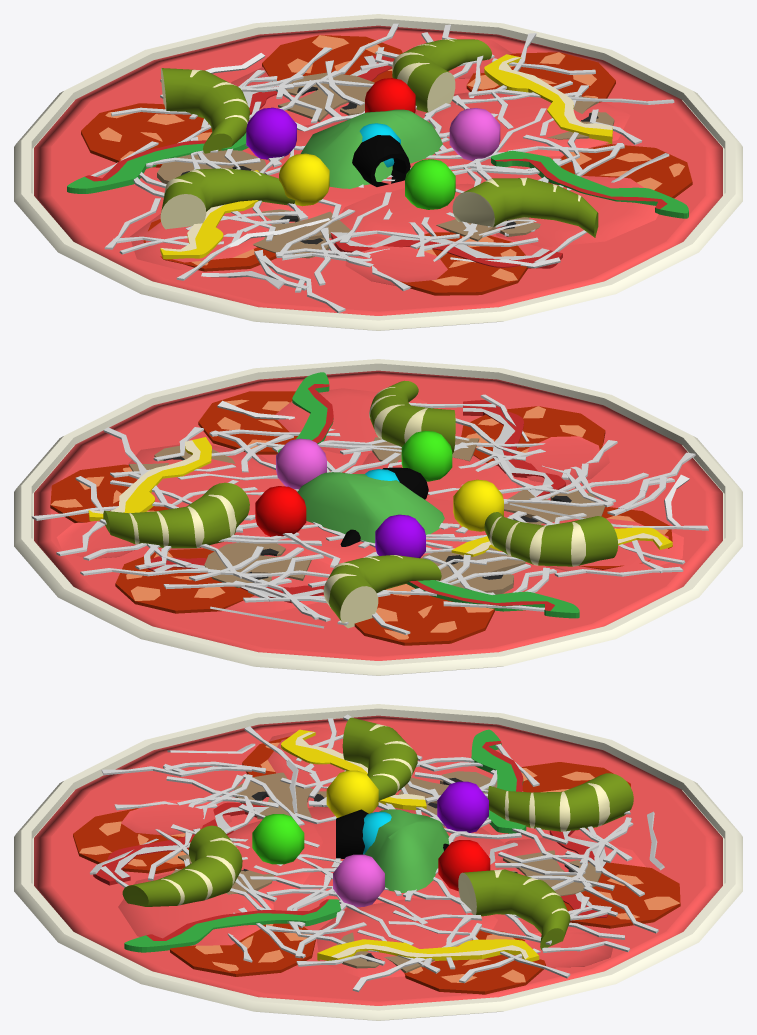
The model's file is Pizza.fbx.
3 views of the same model, one above another, from view 1: azimuth 30°, elevation 25°; view 2: azimuth 150°, elevation 25°; view 3: azimuth 270°, elevation 25° (orthographic).
Parts seen in each view (by area): view 1: Sauce_T3_Pizza, Pate_Pizza, Fromage_Pizza, Sauce_T2-Pizza, Chorizo_Pizza, Crevette_Pizza, Poivron_Pizza, caca_dans_pizza_14, champi_sur_pizza_2, Moisissure_Pizza, Vers_Pizza; view 2: Sauce_T3_Pizza, Pate_Pizza, Fromage_Pizza, Chorizo_Pizza, Sauce_T2-Pizza, Crevette_Pizza, Poivron_Pizza, caca_dans_pizza_14, champi_sur_pizza_2, Moisissure_Pizza, Vers_Pizza; view 3: Sauce_T3_Pizza, Pate_Pizza, Fromage_Pizza, Sauce_T2-Pizza, Crevette_Pizza, Chorizo_Pizza, Poivron_Pizza, caca_dans_pizza_14, champi_sur_pizza_2, Moisissure_Pizza, Vers_Pizza.
Part boxes in pixels (left/top/right/bottom): Sauce_T3_Pizza: left=34, top=25, right=722, bottom=315; Pate_Pizza: left=14, top=14, right=742, bottom=330; Fromage_Pizza: left=91, top=23, right=674, bottom=312; Sauce_T2-Pizza: left=130, top=36, right=658, bottom=287; Chorizo_Pizza: left=81, top=35, right=692, bottom=295; Crevette_Pizza: left=160, top=39, right=598, bottom=237; Poivron_Pizza: left=67, top=54, right=688, bottom=268; caca_dans_pizza_14: left=246, top=78, right=500, bottom=209; champi_sur_pizza_2: left=157, top=72, right=614, bottom=258; Moisissure_Pizza: left=300, top=109, right=442, bottom=188; Vers_Pizza: left=352, top=135, right=410, bottom=186; Sauce_T3_Pizza: left=34, top=370, right=722, bottom=660; Pate_Pizza: left=14, top=359, right=742, bottom=675; Fromage_Pizza: left=31, top=394, right=708, bottom=634; Chorizo_Pizza: left=50, top=391, right=672, bottom=645; Sauce_T2-Pizza: left=56, top=388, right=683, bottom=612; Crevette_Pizza: left=103, top=380, right=618, bottom=628; Poivron_Pizza: left=88, top=372, right=672, bottom=618; caca_dans_pizza_14: left=255, top=430, right=503, bottom=558; champi_sur_pizza_2: left=129, top=437, right=604, bottom=594; Moisissure_Pizza: left=297, top=472, right=444, bottom=543; Vers_Pizza: left=340, top=467, right=428, bottom=546; Sauce_T3_Pizza: left=34, top=715, right=722, bottom=1005; Pate_Pizza: left=14, top=704, right=742, bottom=1020; Fromage_Pizza: left=90, top=714, right=664, bottom=992; Sauce_T2-Pizza: left=118, top=726, right=645, bottom=977; Crevette_Pizza: left=122, top=717, right=633, bottom=949; Chorizo_Pizza: left=73, top=735, right=680, bottom=994; Poivron_Pizza: left=93, top=729, right=611, bottom=961; caca_dans_pizza_14: left=252, top=770, right=490, bottom=907; champi_sur_pizza_2: left=171, top=771, right=601, bottom=972; Moisissure_Pizza: left=364, top=809, right=449, bottom=892; Vers_Pizza: left=336, top=809, right=448, bottom=858.
Bounding box in the file's own units: 1994 × 163 × 1964.
